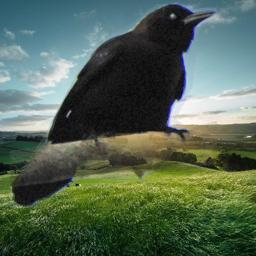Crow: (10, 4, 217, 208)
